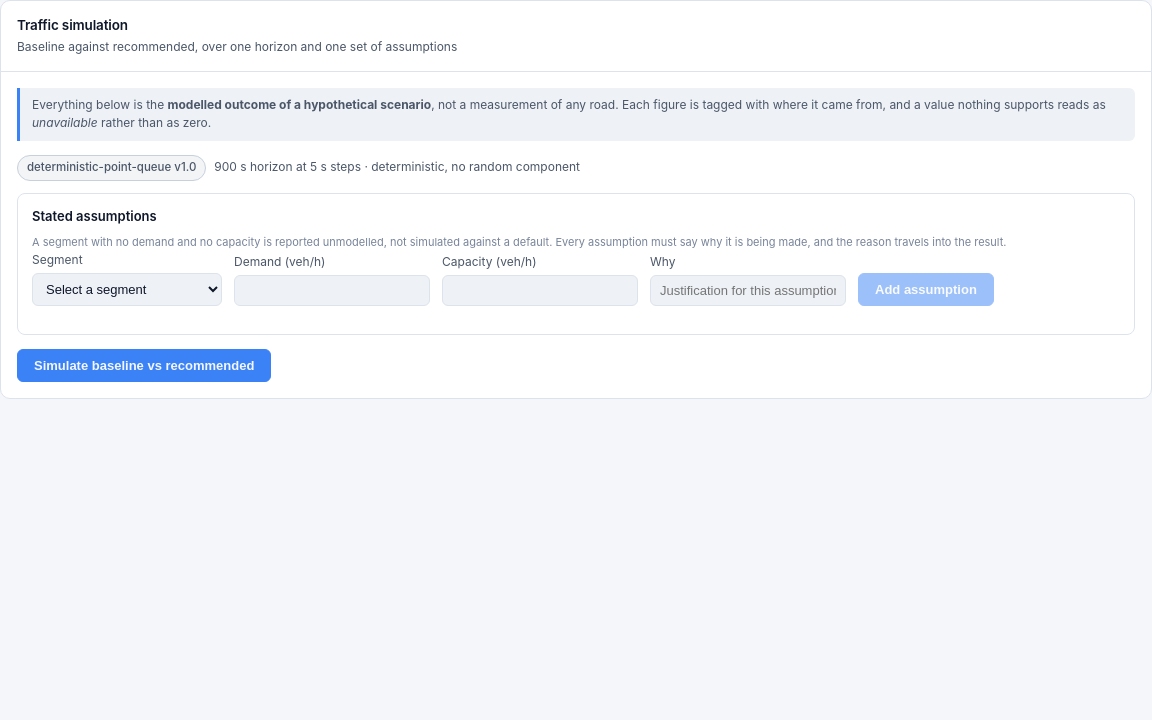
SimulationPanel › tags a simulated figure as simulated and the reference as derived
Click the button "Simulate baseline vs recommended": {"x": 144, "y": 366} x1=17 y1=349 x2=271 y2=382
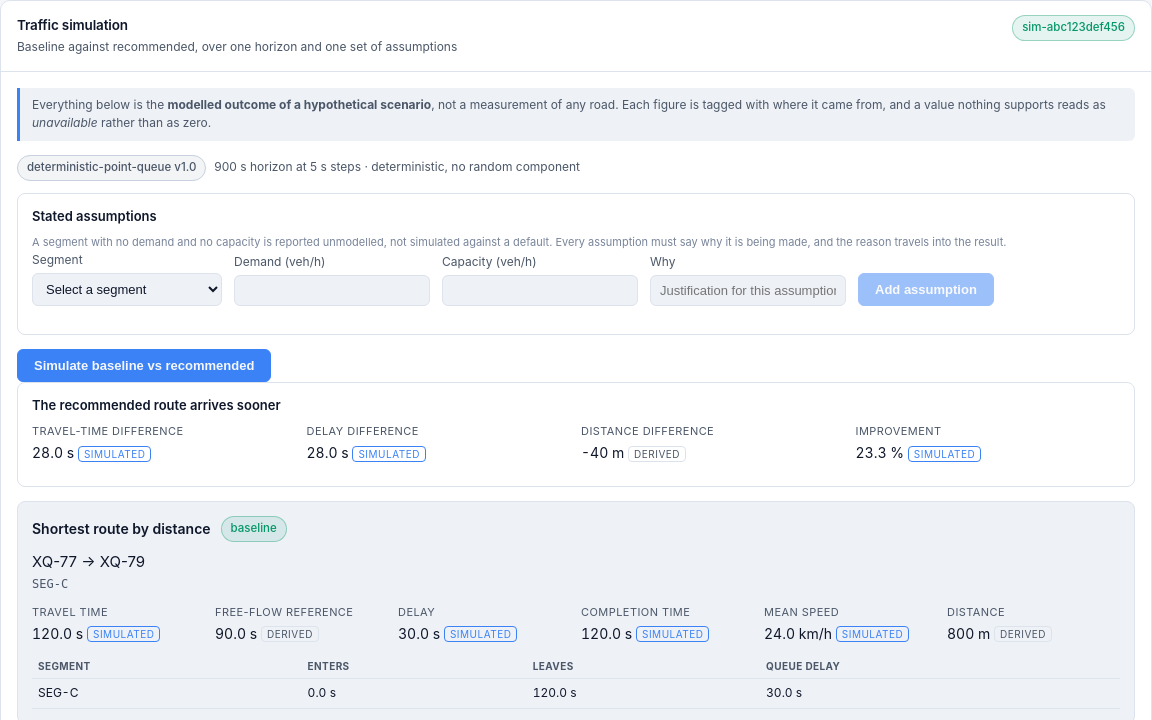
Result: the text "Shortest route by distance" is shown at x1=32 y1=518 x2=211 y2=540
Result: the text "simulated" below "Travel-time difference" is shown at x1=84 y1=448 x2=145 y2=460
Result: the text "derived" in the row of "-40" is shown at x1=634 y1=448 x2=680 y2=460
